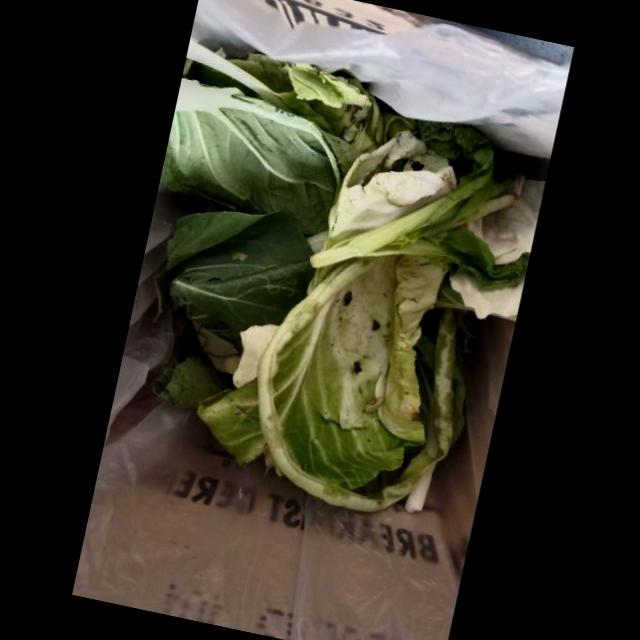vo_rau_cu: (194, 249, 472, 512), (158, 36, 402, 231), (310, 116, 528, 293), (159, 209, 315, 343), (151, 351, 231, 409)
